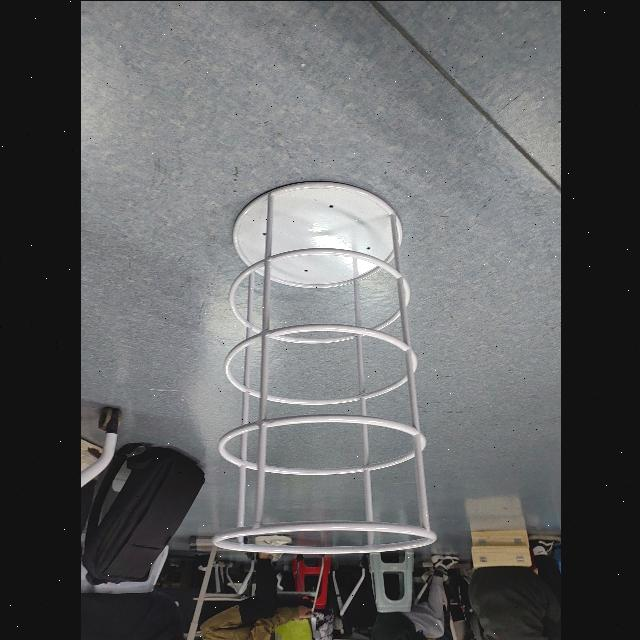S: (201, 175, 441, 558)
